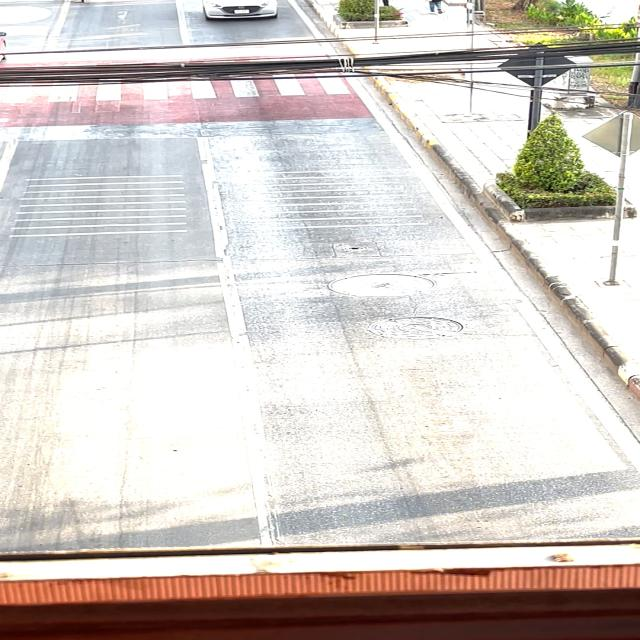car: (196, 0, 284, 30)
